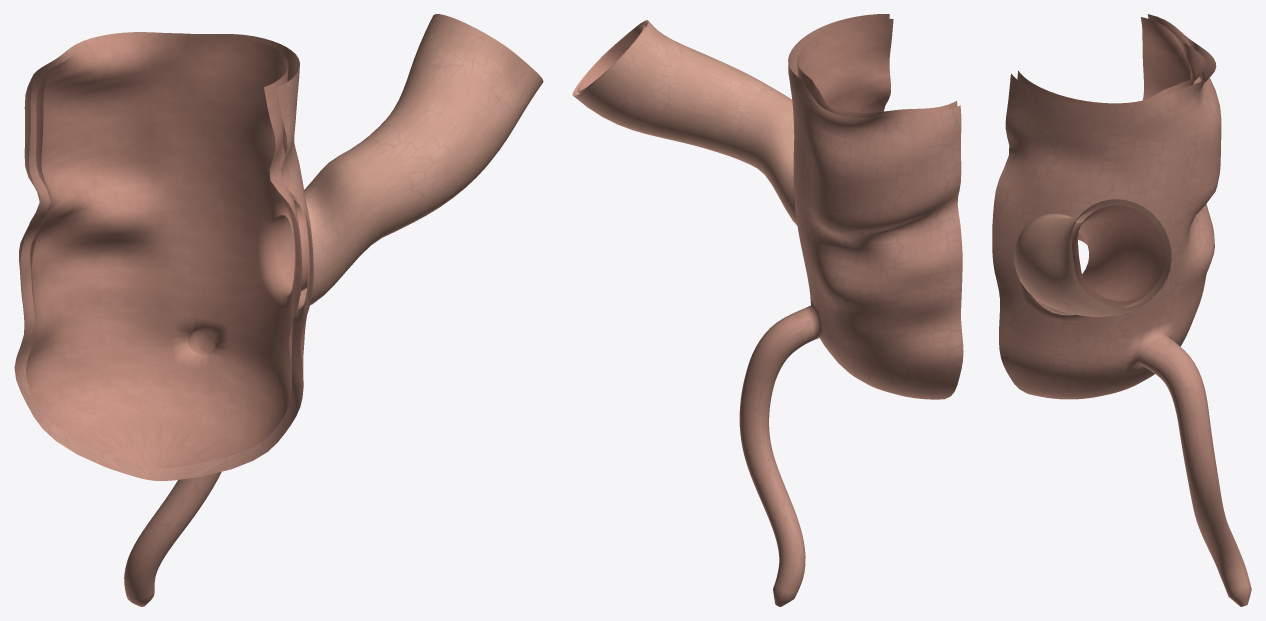
The model's file is ileocaecal.glb.
3 views of the same model, side by side, from view 1: azimuth 30°, elevation 25°; view 2: azimuth 150°, elevation 25°; view 3: azimuth 270°, elevation 25° (orthographic). The views are drawn at different scales.
Parts seen in each view (by area): view 1: Caecum / anterolateral section; view 2: Caecum / anterolateral section; view 3: Caecum / anterolateral section.
Boxes of the visible parts, x1,y1,x2,y2 form: Caecum / anterolateral section: (14, 14, 543, 606); Caecum / anterolateral section: (572, 14, 963, 606); Caecum / anterolateral section: (992, 14, 1251, 606).
Bounding box in the file's own units: 0.1111 × 0.1333 × 0.0587.
4 materials, 4 textured.
